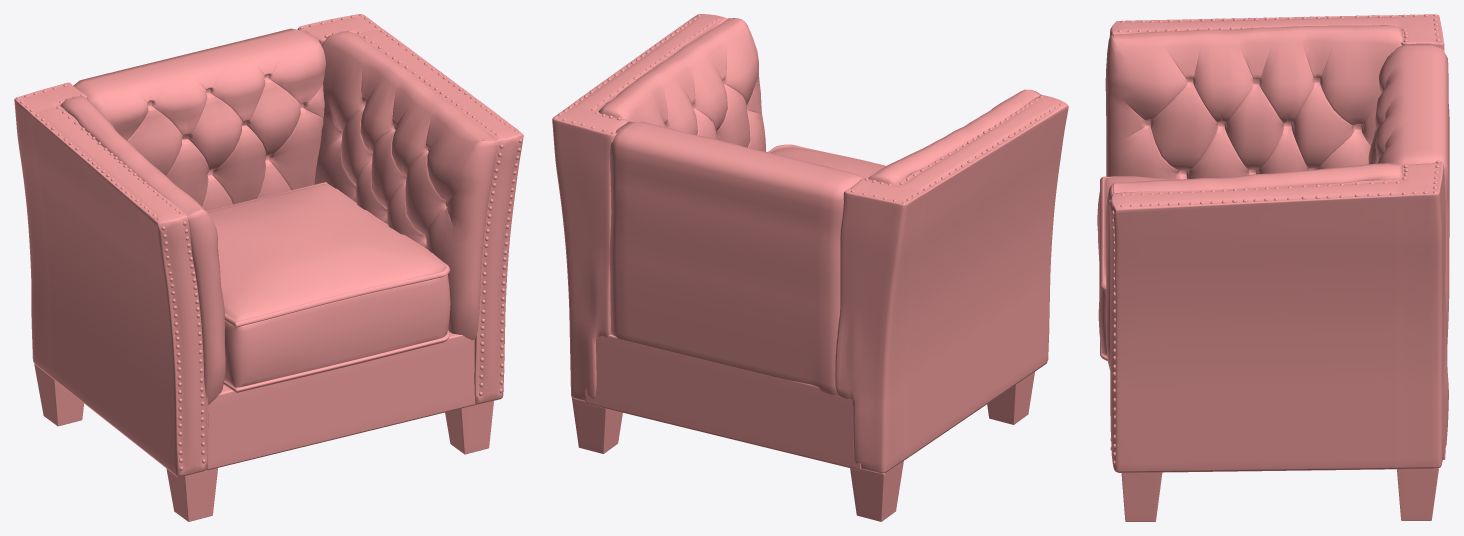
Rendered from chair.fbx.
3 renders of one model, left to right at view 1: azimuth 30°, elevation 25°; view 2: azimuth 150°, elevation 25°; view 3: azimuth 270°, elevation 25°, orthographic. The views are drawn at different scales.
Visible parts, largest first — view 1: char__sotm:Mesh; view 2: char__sotm:Mesh; view 3: char__sotm:Mesh.
Boxes of the visible parts, x1,y1,x2,y2 form: char__sotm:Mesh: (14, 14, 523, 521); char__sotm:Mesh: (552, 14, 1068, 521); char__sotm:Mesh: (1097, 14, 1449, 521).
Size of the model in its own units: 85.34 by 73.11 by 67.32.
